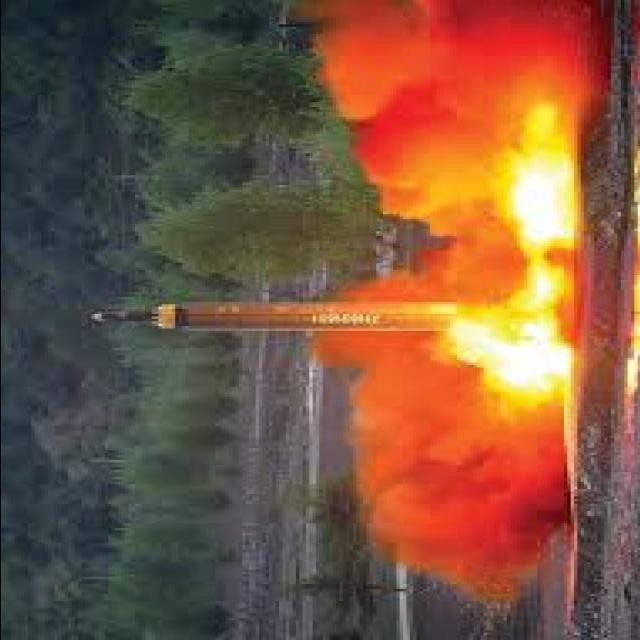missile: (87, 296, 537, 343)
